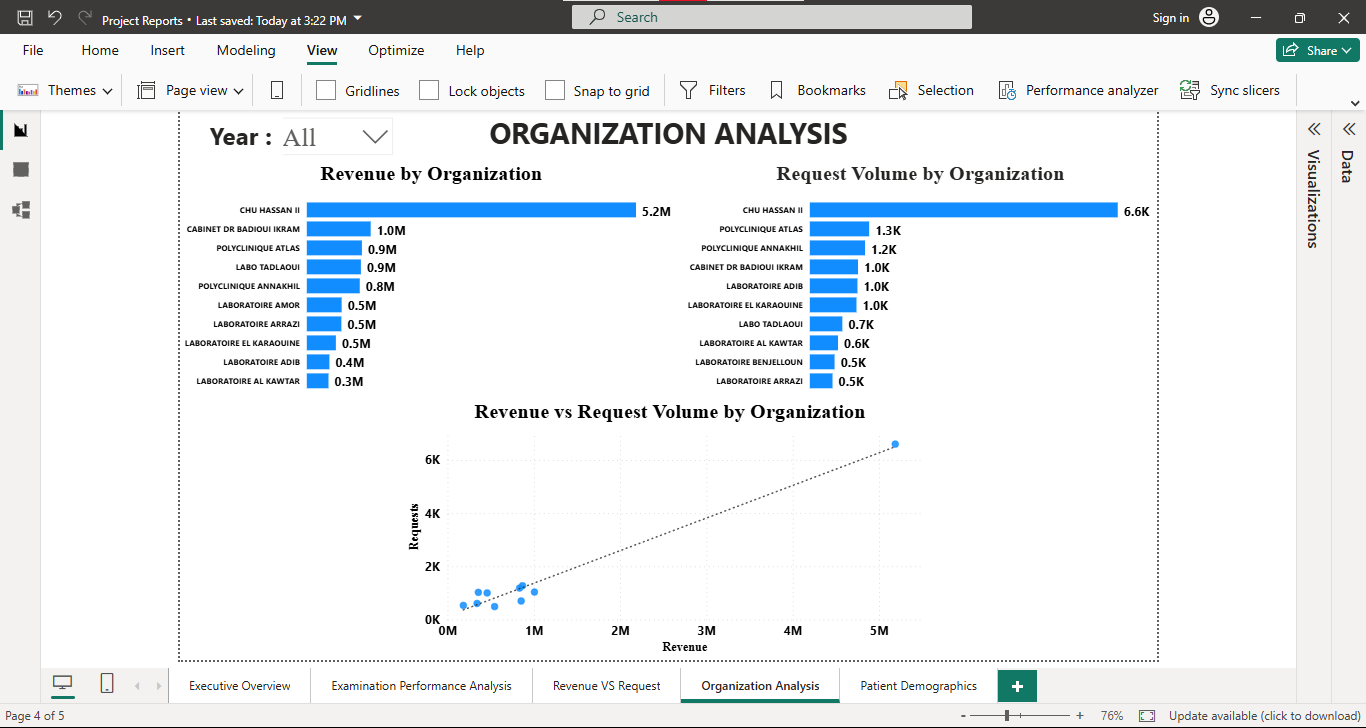

The page's visual inventory and layout, read from the dashboard file:
{"tool":"powerbi","page":{"name":"Organization Analysis","canvas":[1280,720],"ordinal":3},"visuals":[{"type":"textbox","box":[268.4,0,742.3,68.1],"z":0},{"type":"slicer","fields":{"Values":["Bi Db Datamarts.Date.Variation.Hiérarchie de dates.Année"]},"box":[96.9,0,171.5,69.4],"z":2,"group":"g1"},{"type":"textbox","box":[13.1,5.2,100.8,58.9],"z":8,"group":"g1"},{"type":"clusteredBarChart","title":"Revenue by Organization","fields":{"Y":["Sum(Bi Db Datamarts.CA)"],"Category":["Bi Db Datamarts.Organization Nom"]},"box":[0,68.1,658.5,311.6],"z":1000},{"type":"clusteredBarChart","title":"Request Volume by Organization","fields":{"Y":["Sum(Bi Db Datamarts.Nbr Demande)"],"Category":["Bi Db Datamarts.Organization Nom"]},"box":[658.5,68.1,621.8,311.6],"z":2000},{"type":"scatterChart","title":"Revenue vs Request Volume by Organization","fields":{"X":["Sum(Bi Db Datamarts.CA)"],"Y":["Sum(Bi Db Datamarts.Nbr Demande)"],"Category":["Bi Db Datamarts.Organization Nom"]},"box":[289.3,379.6,700.4,340.4],"z":3000},{"type":"group","id":"g1","title":"Group 1","box":[13.1,0,255.3,69.4],"z":4000}]}

Visuals, with their boxes on the page's 1280x720 design canvas (x1, y1, x2, y2). These are canvas units, not pixel positions in the 1366x728 screenshot, which may show the page scaled, cropped or inside an application window:
textbox: l=268, t=0, r=1011, b=68
slicer - Bi Db Datamarts.Date.Variation.Hiérarchie de dates.Année: l=97, t=0, r=268, b=69
textbox: l=13, t=5, r=114, b=64
"Revenue by Organization" clusteredBarChart: l=0, t=68, r=658, b=380
"Request Volume by Organization" clusteredBarChart: l=658, t=68, r=1280, b=380
"Revenue vs Request Volume by Organization" scatterChart: l=289, t=380, r=990, b=720
"Group 1" group: l=13, t=0, r=268, b=69
